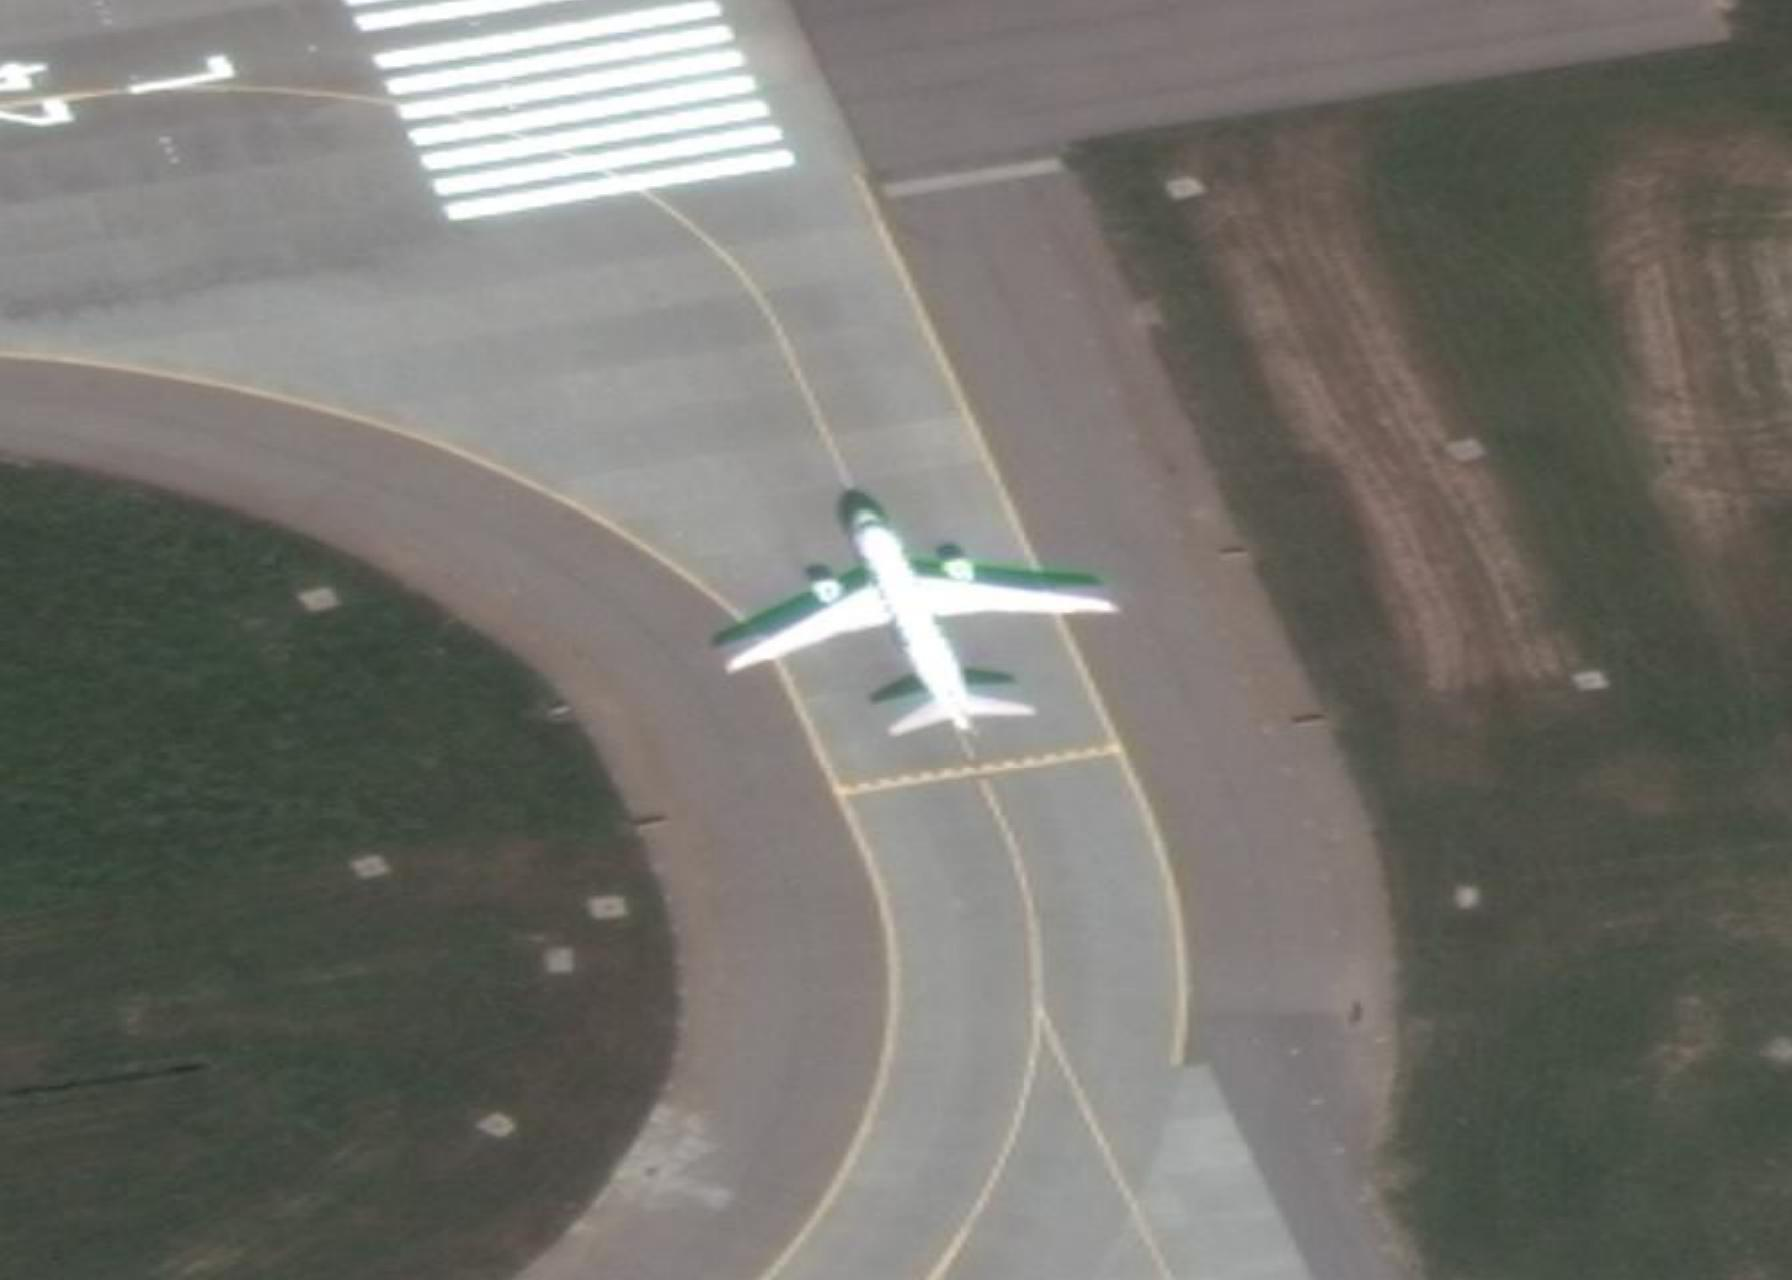plane: (695, 468, 1143, 766)
